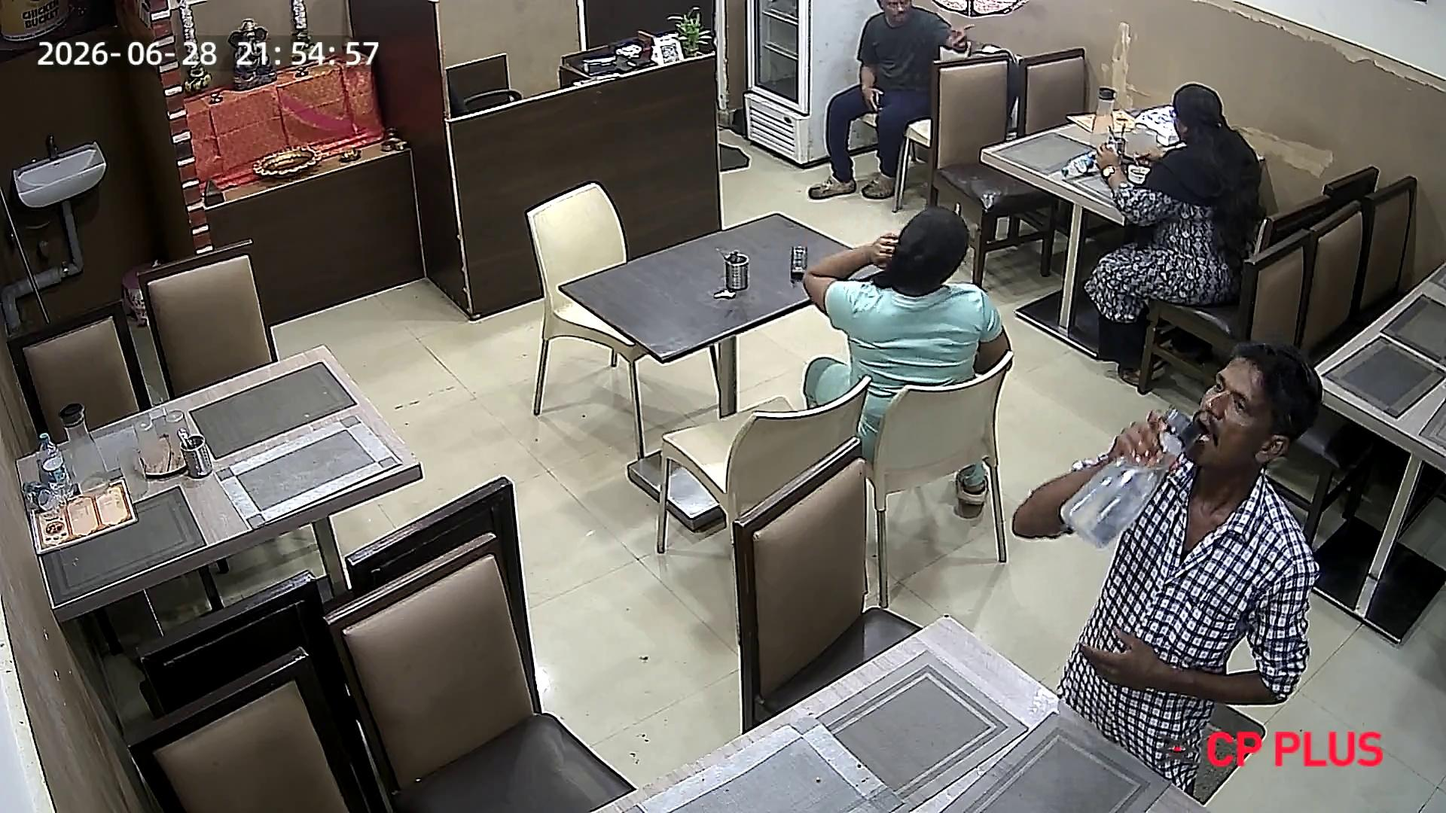dirty: (13, 341, 426, 611)
occupied: (559, 218, 1020, 403), (1012, 89, 1322, 261)
